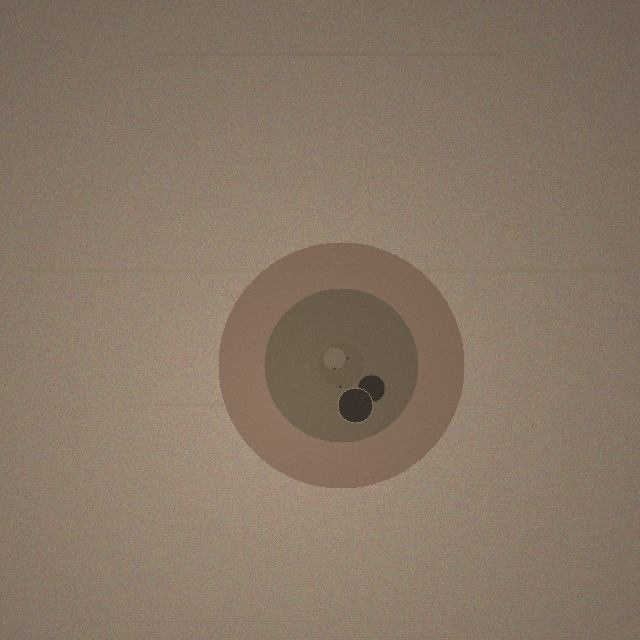shrinkage: (218, 242, 464, 488)
